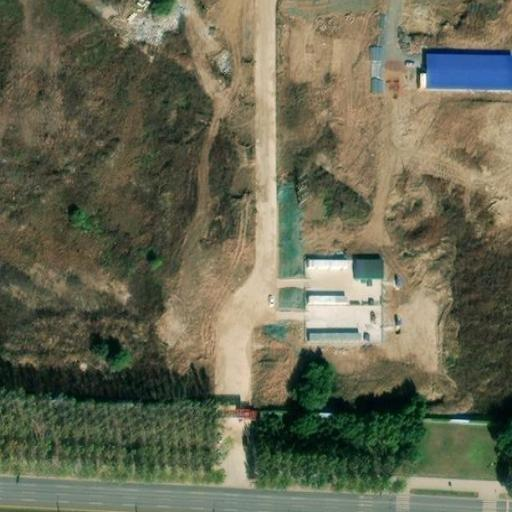building: (425, 54, 512, 88), (305, 324, 362, 343), (303, 254, 350, 271), (304, 289, 347, 304), (357, 258, 381, 276), (367, 42, 384, 63)
